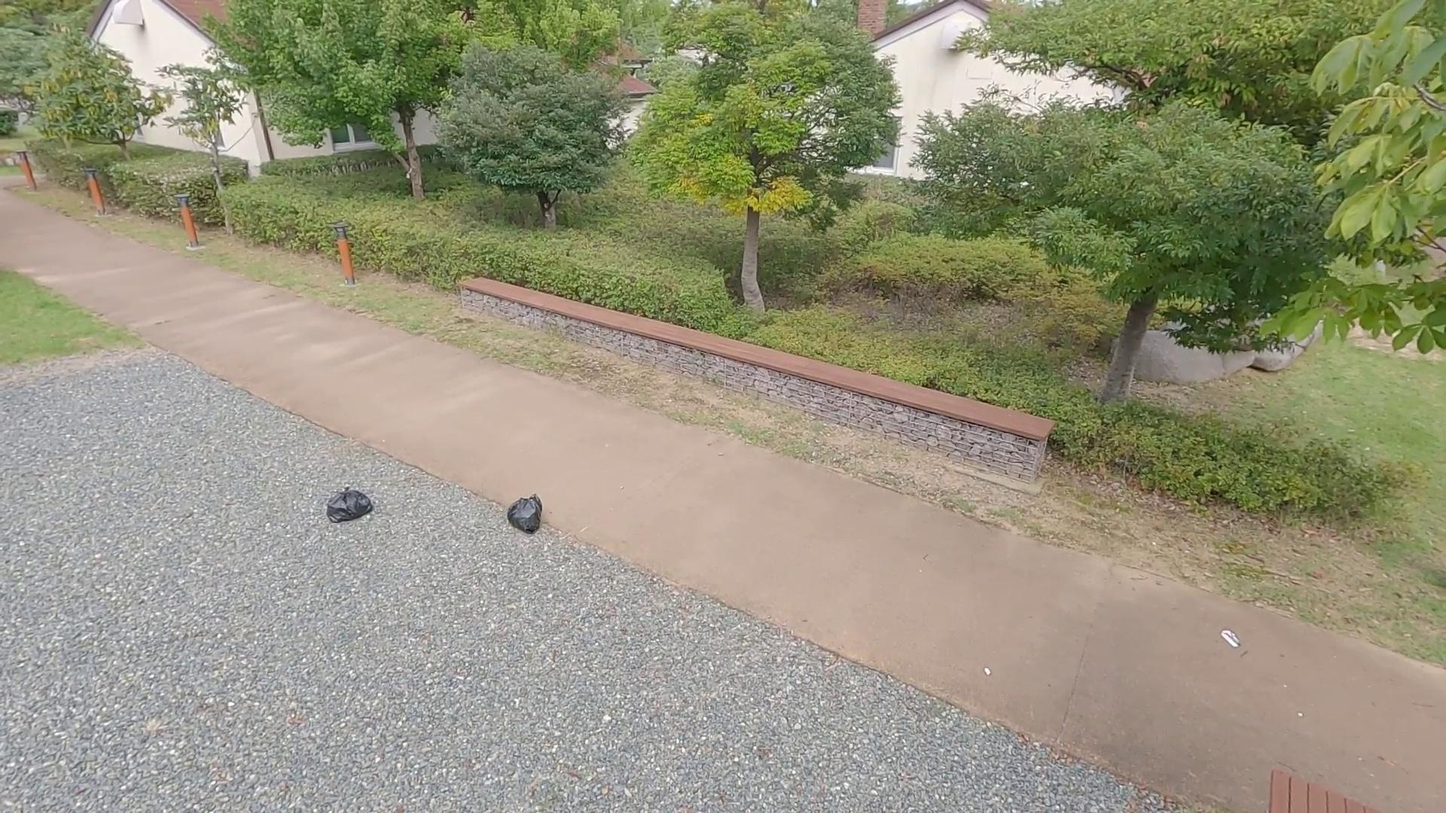trash: (326, 487, 374, 524), (508, 493, 544, 535)
